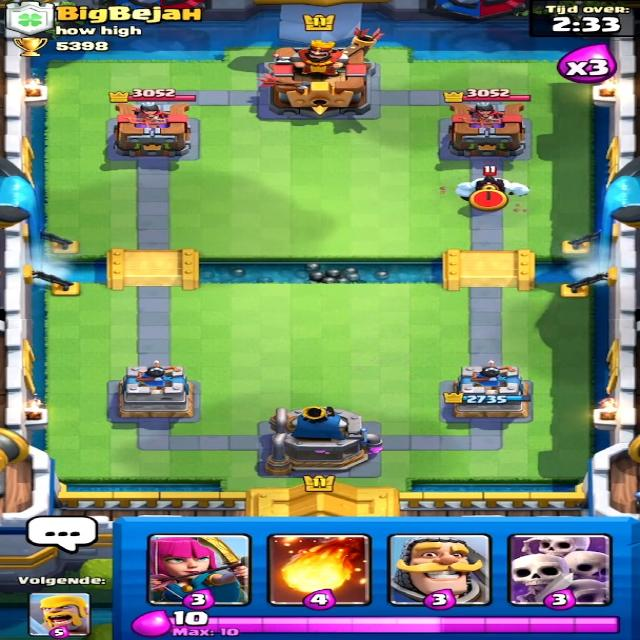Fireball_Card: (272, 536, 369, 604)
